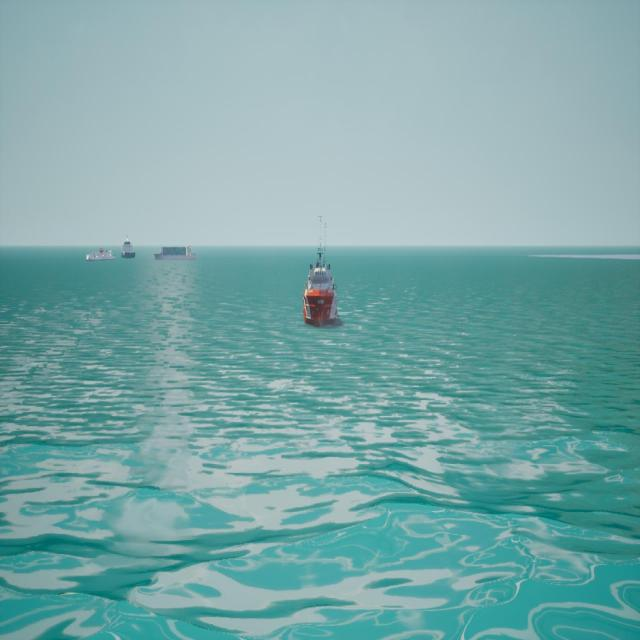tug boat: (303, 218, 340, 327)
